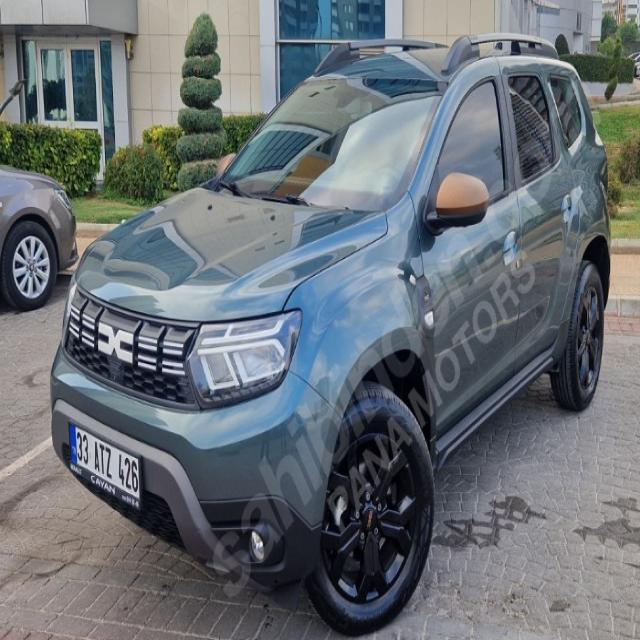dacia: (96, 313, 138, 371)
